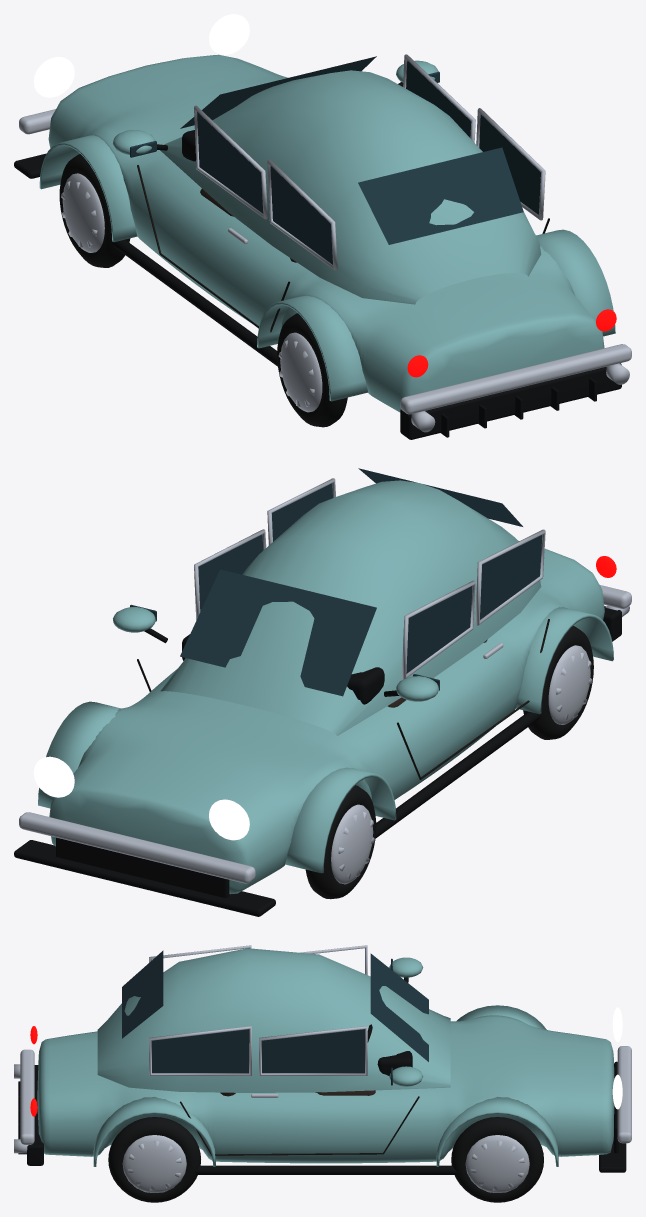
Rendered from pune-classic.glb.
3 views of the same model, one above another, from view 1: azimuth 30°, elevation 25°; view 2: azimuth 150°, elevation 25°; view 3: azimuth 270°, elevation 25° (orthographic). The views are drawn at different scales.
Parts seen in each view (by area): view 1: Surface_Paint, Surface_Glazing, Surface_Alloy, Surface_Carbon, Surface_Headlights, Rim_lip, Rim_lip.001, Tire, Tire.001, Surface_Tailights, Surface_Panel_seams; view 2: Surface_Paint, Surface_Glazing, Surface_Carbon, Surface_Alloy, Surface_Headlights, Rim_lip, Rim_lip.001, Tire.001, Tire, Surface_Panel_seams; view 3: Surface_Paint, Surface_Glazing, Surface_Alloy, Surface_Carbon, Tire.003, Tire.002, Rim_lip.002, Rim_lip.003, Surface_Panel_seams, Surface_Headlights.
Part boxes in pixels (x1,y1,x2,y2): Surface_Paint: (39, 54, 615, 412); Surface_Glazing: (130, 56, 540, 264); Surface_Alloy: (19, 54, 631, 432); Surface_Carbon: (14, 82, 621, 439); Surface_Headlights: (33, 14, 249, 97); Rim_lip: (278, 332, 322, 412); Rim_lip.001: (61, 173, 104, 252); Tire: (277, 313, 347, 427); Tire.001: (59, 154, 130, 267); Surface_Tailights: (407, 309, 616, 377); Surface_Panel_seams: (137, 165, 549, 332); Surface_Paint: (38, 480, 613, 894); Surface_Glazing: (130, 468, 542, 696); Surface_Carbon: (14, 606, 621, 916); Surface_Alloy: (19, 478, 631, 883); Surface_Headlights: (33, 756, 249, 840); Rim_lip: (548, 645, 592, 724); Rim_lip.001: (331, 804, 374, 884); Tire.001: (305, 785, 376, 899); Tire: (523, 626, 593, 739); Surface_Panel_seams: (137, 619, 549, 779); Surface_Paint: (37, 948, 614, 1166); Surface_Glazing: (122, 950, 428, 1085); Surface_Alloy: (14, 945, 631, 1153); Surface_Carbon: (18, 977, 626, 1174); Tire.003: (451, 1117, 543, 1202); Tire.002: (108, 1117, 200, 1202); Rim_lip.002: (122, 1135, 186, 1192); Rim_lip.003: (465, 1135, 529, 1192); Surface_Panel_seams: (180, 1096, 419, 1155); Surface_Headlights: (612, 1007, 622, 1109).
Size of the model in its own units: 2.04 by 1.53 by 4.32.
